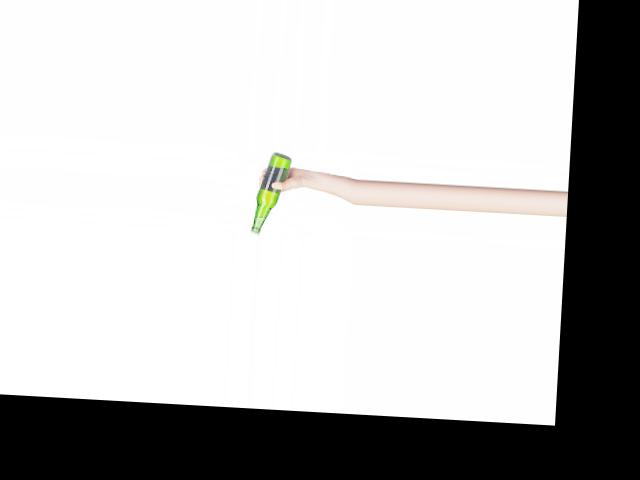beer: (250, 150, 292, 236)
